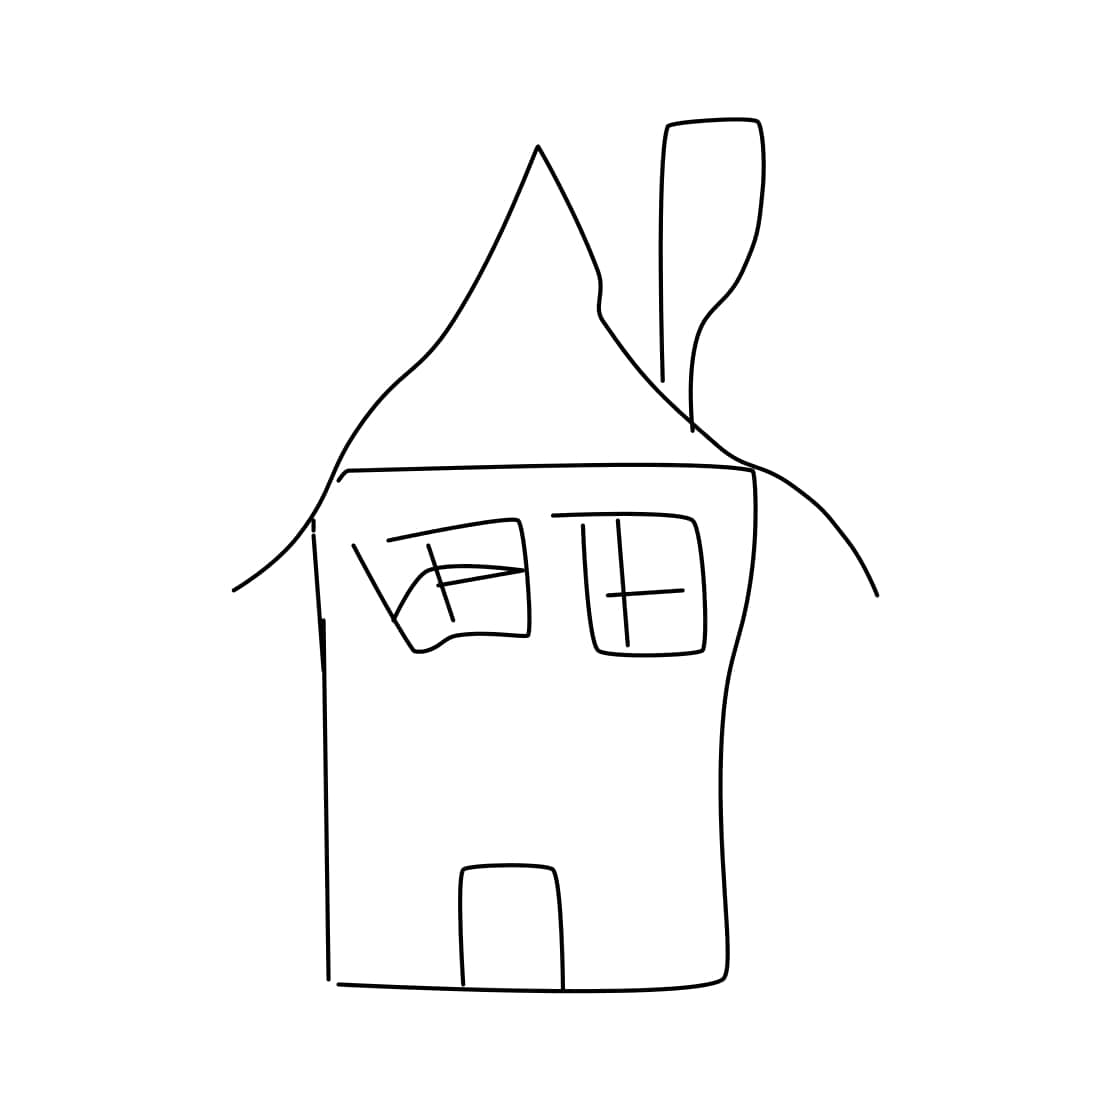House: (190, 115, 926, 1015)
